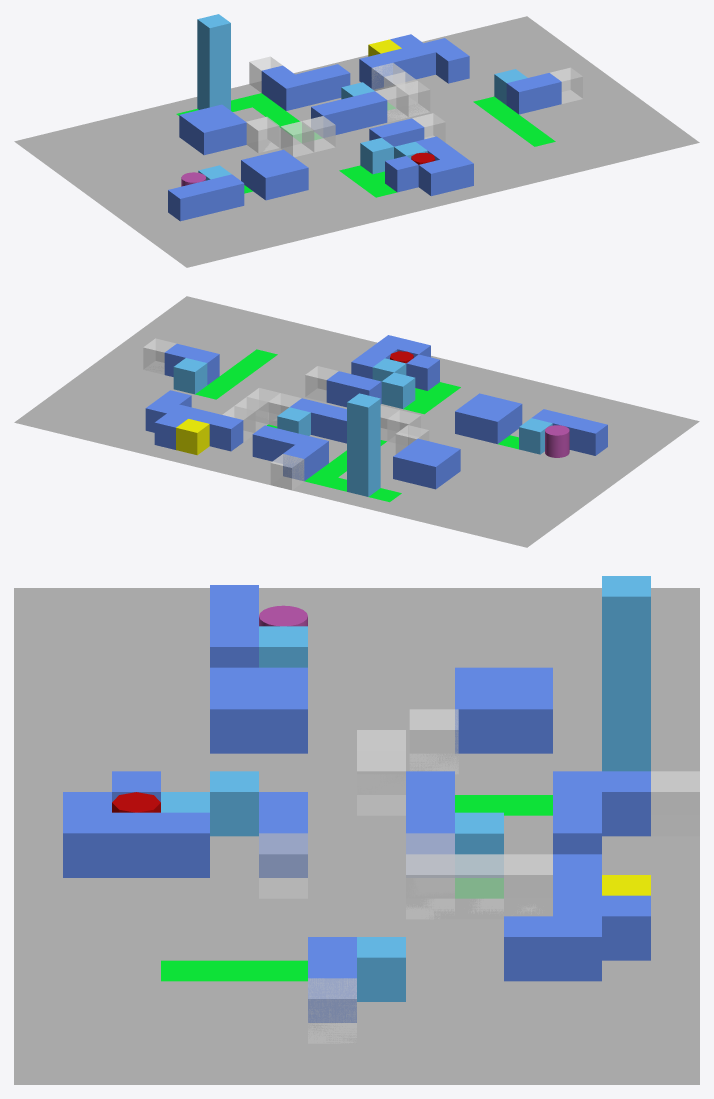
The model's file is level1_test.fbx.
The picture shows the model from 3 angles, top to bottom: view 1: azimuth 30°, elevation 25°; view 2: azimuth 150°, elevation 25°; view 3: azimuth 270°, elevation 25°; orthographic projection. The views are drawn at different scales.
Parts seen in each view (by area): view 1: Floor, Block_Normal.008, Block_Normal.025, Block_Normal.032, Block_Transparent.009, Block_Normal.030, Block_Normal.013, Block_Normal.024, Block_Moveable.006, Block_Transparent, Block_Normal.001, Block_Normal.004 (+32 smaller); view 2: Floor, Block_Normal.019, Block_Moveable.008, Block_Moveable.002, Block_Normal.010, Block_Transparent.002, Block_Normal.006, Block_Normal.001, Block_Moveable.006, Block_PotionBook, Block_Normal.012, Block_Transparent.009 (+33 smaller); view 3: Floor, Block_Normal.005, Block_Normal.007, Block_Normal.009, Block_Normal.011, Block_Normal.012, Block_Normal.022, Block_Normal.023, Block_Normal.024, Block_Normal.026, Block_Normal.028, Block_Normal.029 (+44 smaller).
Boxes of the visible parts, box(x1,y1,x2,y2) form: Floor: box(14, 16, 699, 267); Block_Normal.008: box(191, 119, 225, 155); Block_Normal.025: box(506, 78, 540, 114); Block_Normal.032: box(418, 160, 452, 196); Block_Transparent.009: box(280, 121, 314, 157); Block_Normal.030: box(385, 156, 418, 192); Block_Normal.013: box(274, 74, 307, 110); Block_Normal.024: box(436, 47, 469, 83); Block_Moveable.006: box(197, 14, 230, 50); Block_Transparent: box(246, 116, 279, 152); Block_Normal.001: box(168, 185, 201, 221); Block_Normal.004: box(253, 164, 286, 200); Floor: box(14, 296, 699, 547); Block_Normal.019: box(209, 415, 243, 451); Block_Moveable.008: box(173, 358, 207, 394); Block_Moveable.002: box(381, 372, 415, 408); Block_Normal.010: box(414, 453, 448, 489); Block_Transparent.002: box(270, 454, 304, 490); Block_Normal.006: box(476, 407, 509, 443); Block_Normal.001: box(574, 419, 607, 455); Block_Moveable.006: box(347, 393, 380, 429); Block_PotionBook: box(176, 419, 209, 455); Block_Normal.012: box(283, 445, 316, 480); Block_Transparent.009: box(387, 410, 420, 445); Floor: box(14, 588, 699, 1084); Block_Normal.005: box(210, 688, 258, 753); Block_Normal.007: box(259, 688, 307, 753); Block_Normal.009: box(455, 688, 503, 753); Block_Normal.011: box(504, 688, 552, 753); Block_Normal.012: box(602, 771, 650, 836); Block_Normal.022: box(602, 895, 650, 960); Block_Normal.023: box(553, 916, 601, 981); Block_Normal.024: box(504, 916, 552, 981); Block_Normal.026: box(308, 957, 356, 1022); Block_Normal.028: box(259, 812, 307, 877); Block_Normal.029: box(161, 812, 209, 877).
Size of the model in its own units: 24 by 4 by 14.
